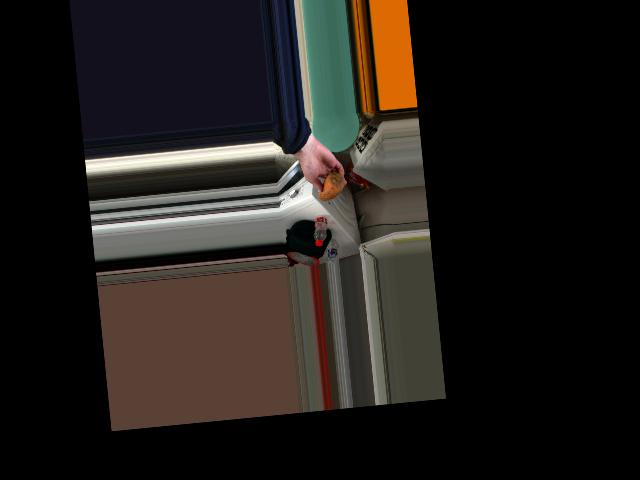sweet_potato: (312, 167, 343, 201)
